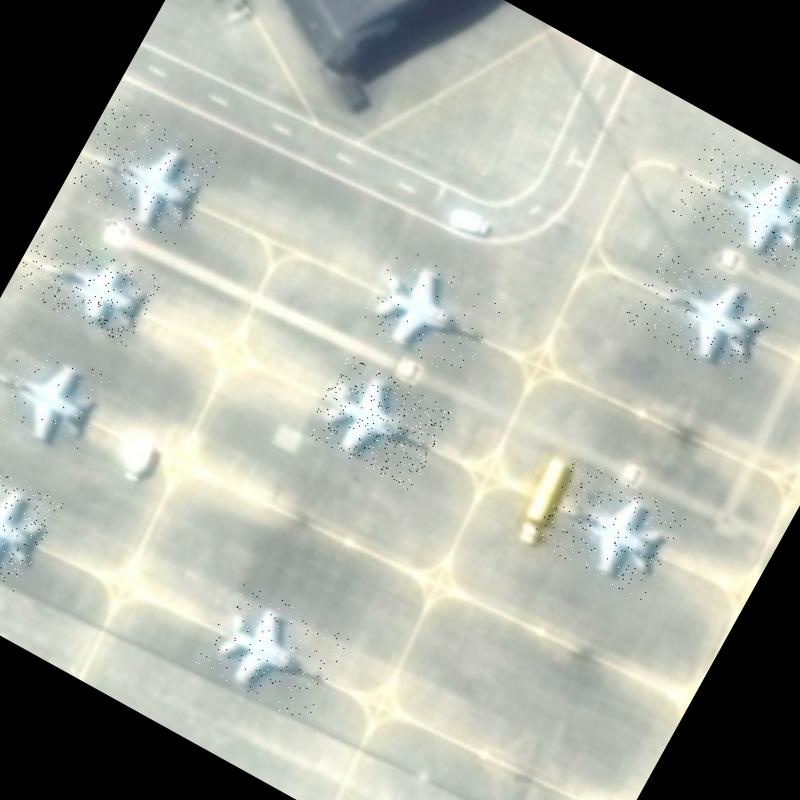A16: (64, 97, 226, 250), (530, 454, 688, 602), (194, 578, 352, 726), (622, 240, 783, 384), (303, 352, 454, 492), (9, 216, 164, 350), (356, 245, 504, 383), (669, 129, 800, 277), (0, 322, 115, 466), (0, 442, 63, 592)
